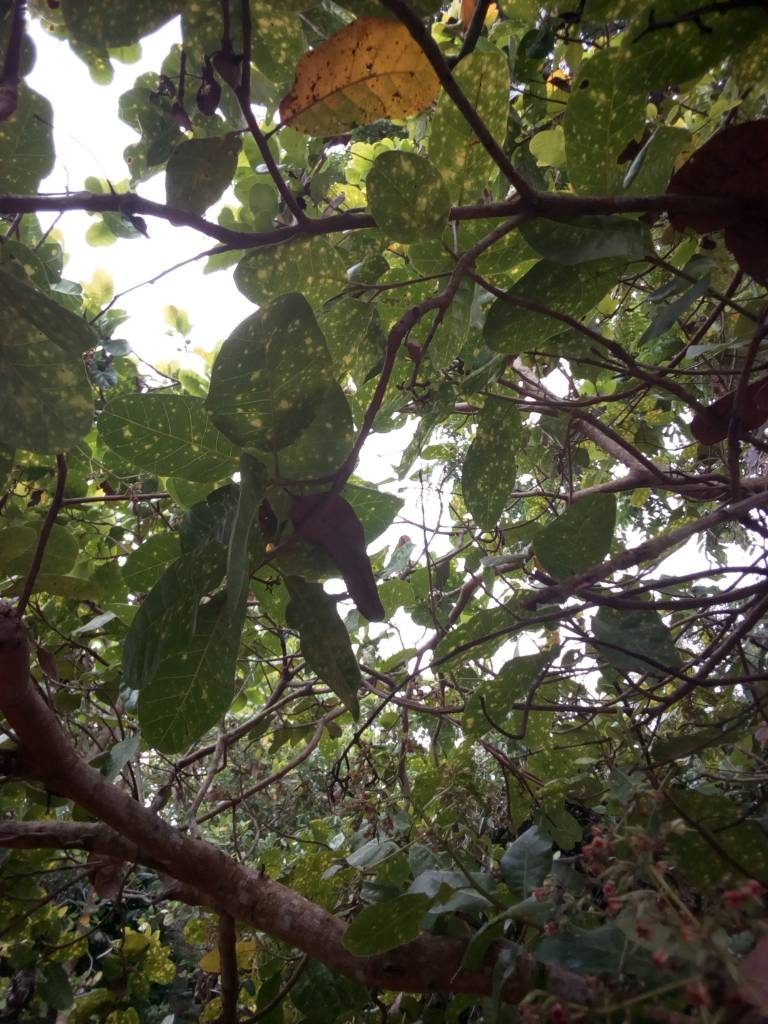Carence minérale: (127, 533, 249, 761), (196, 300, 360, 452), (365, 236, 488, 396), (1, 274, 102, 464), (486, 238, 627, 371), (284, 586, 383, 727), (88, 392, 244, 480), (217, 241, 369, 316), (361, 147, 477, 242), (405, 594, 549, 663), (461, 650, 541, 742)
